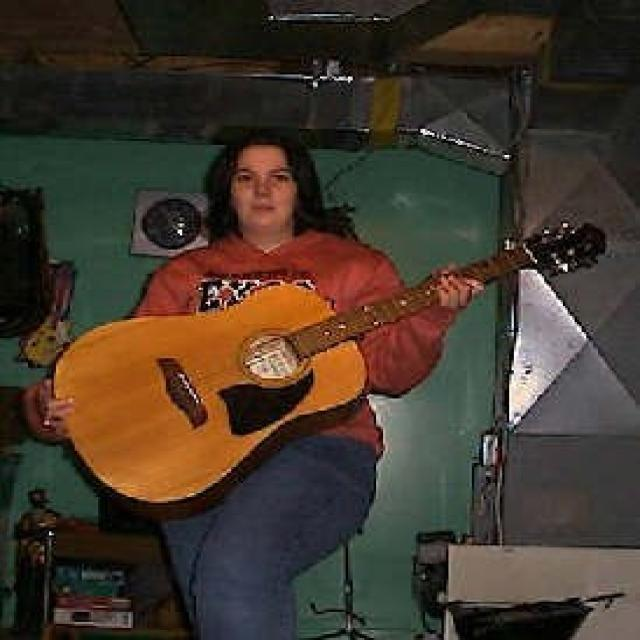guitar: (60, 224, 611, 510), (22, 279, 76, 367)
